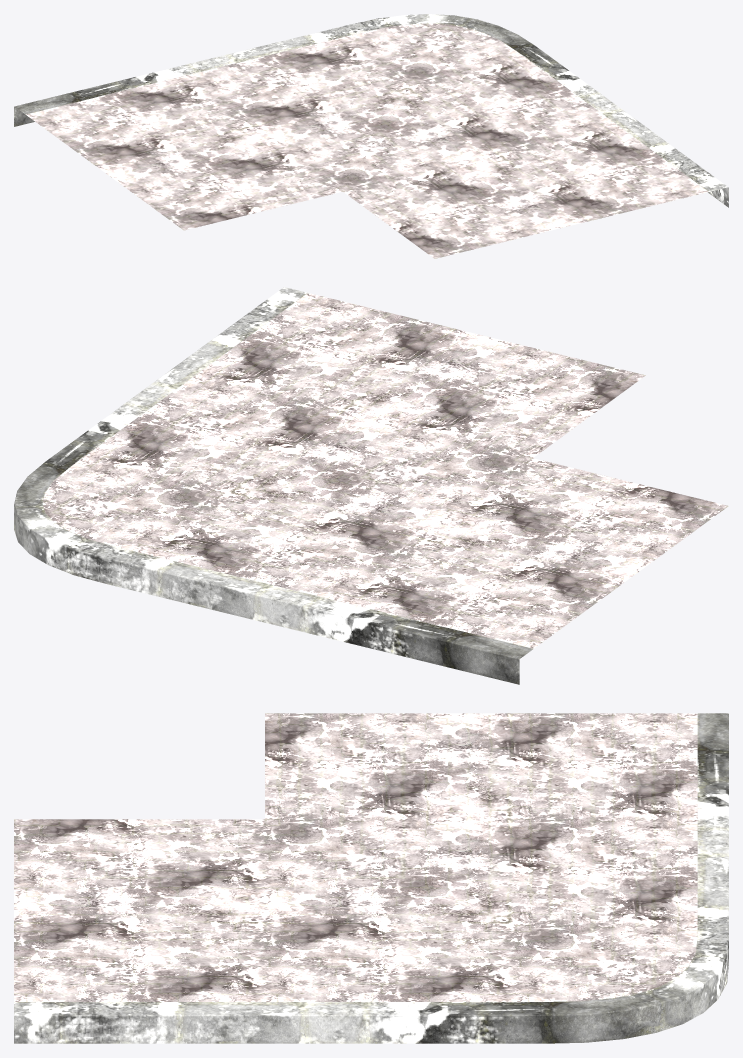
The model's file is SM_pavement_B_01_01.fbx.
3 views of the same model, one above another, from view 1: azimuth 30°, elevation 25°; view 2: azimuth 150°, elevation 25°; view 3: azimuth 270°, elevation 25° (orthographic). The views are drawn at different scales.
Parts seen in each view (by area): view 1: SM_pavement_B_01_01_LOD0; view 2: SM_pavement_B_01_01_LOD0; view 3: SM_pavement_B_01_01_LOD0.
Boxes of the visible parts, x1=… form: SM_pavement_B_01_01_LOD0: x1=14, y1=14, x2=728, y2=258; SM_pavement_B_01_01_LOD0: x1=14, y1=287, x2=728, y2=684; SM_pavement_B_01_01_LOD0: x1=14, y1=713, x2=728, y2=1043.
Bounding box in the file's own units: 570 × 570 × 25.
2 materials, 2 textured.
